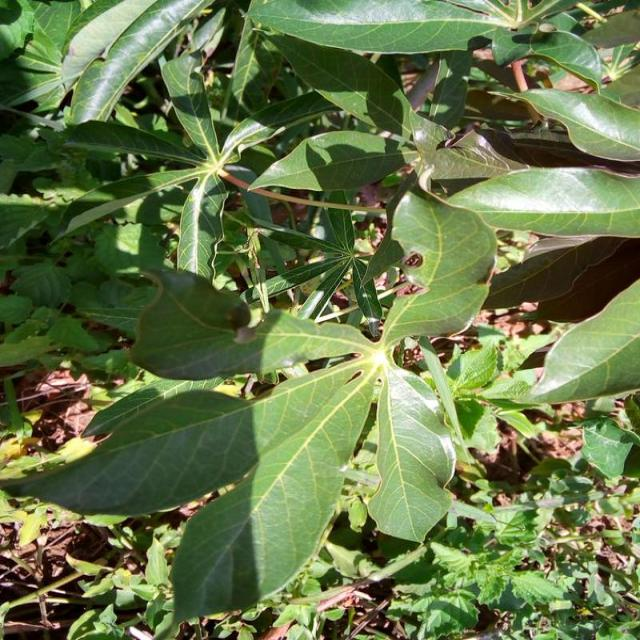cassava leaf: (0, 1, 638, 629), (366, 361, 456, 544)
